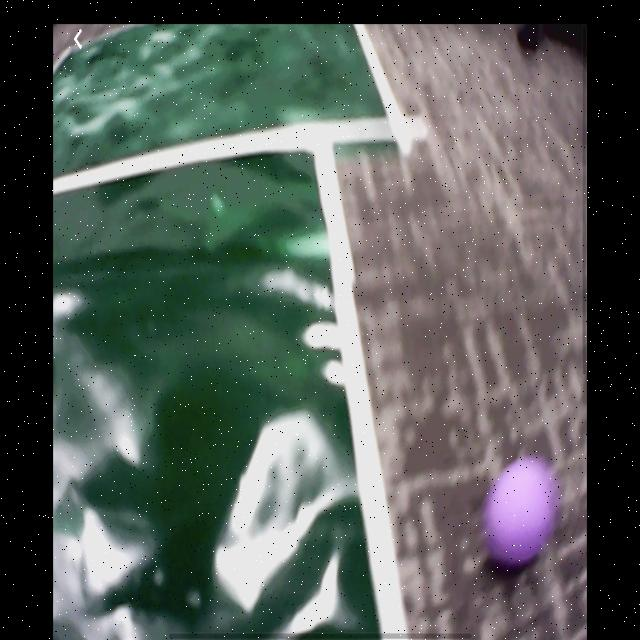ball: (482, 455, 563, 570)
